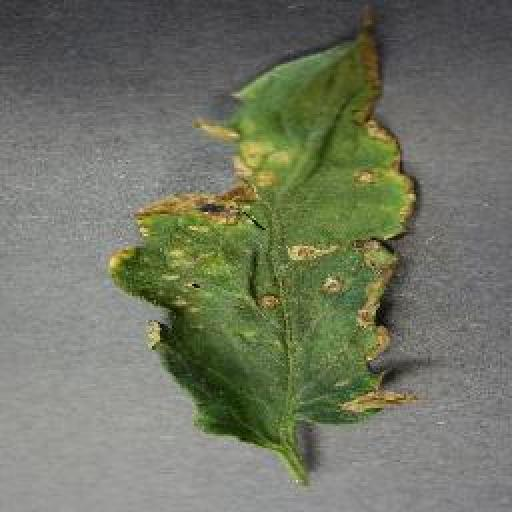Bacterial Spot: (110, 14, 422, 450)
